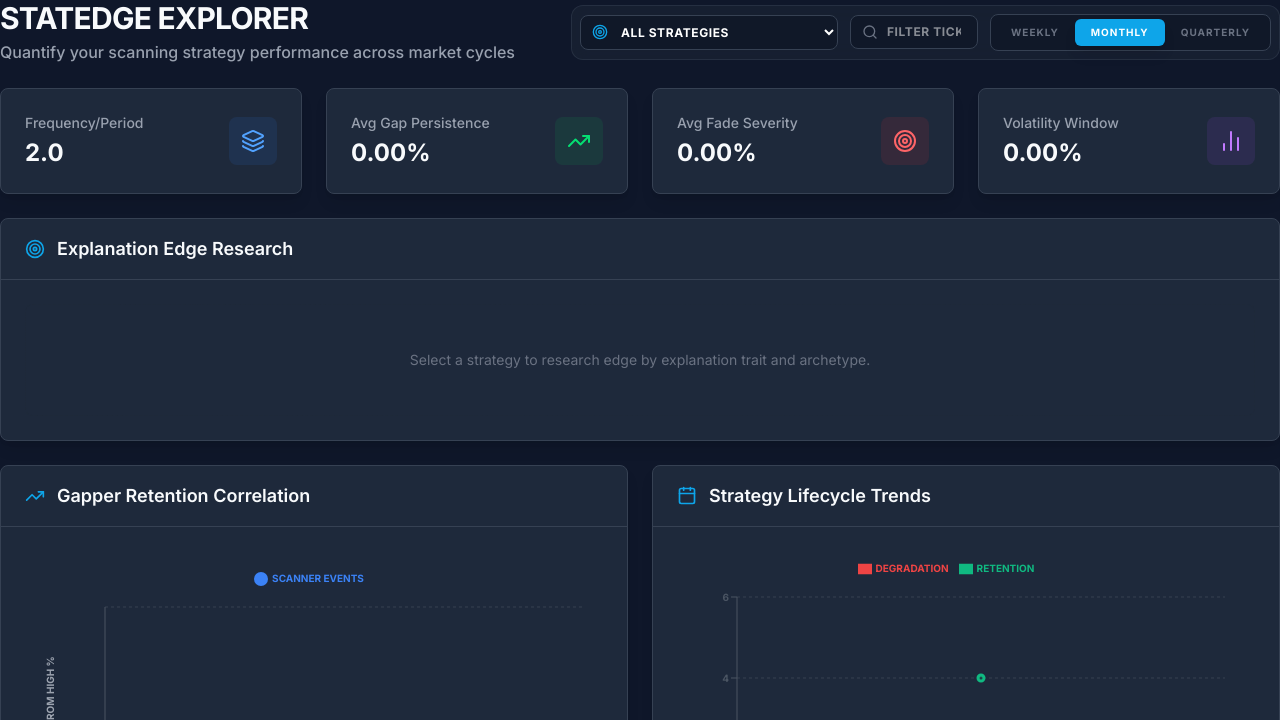
Test: EdgeExplorer explanation intelligence › surfaces warning-heavy analog groups
Select "Pre Market Volume Spike" in the dropdown named "Strategy filter" at [709, 32], box [580,14,838,50]
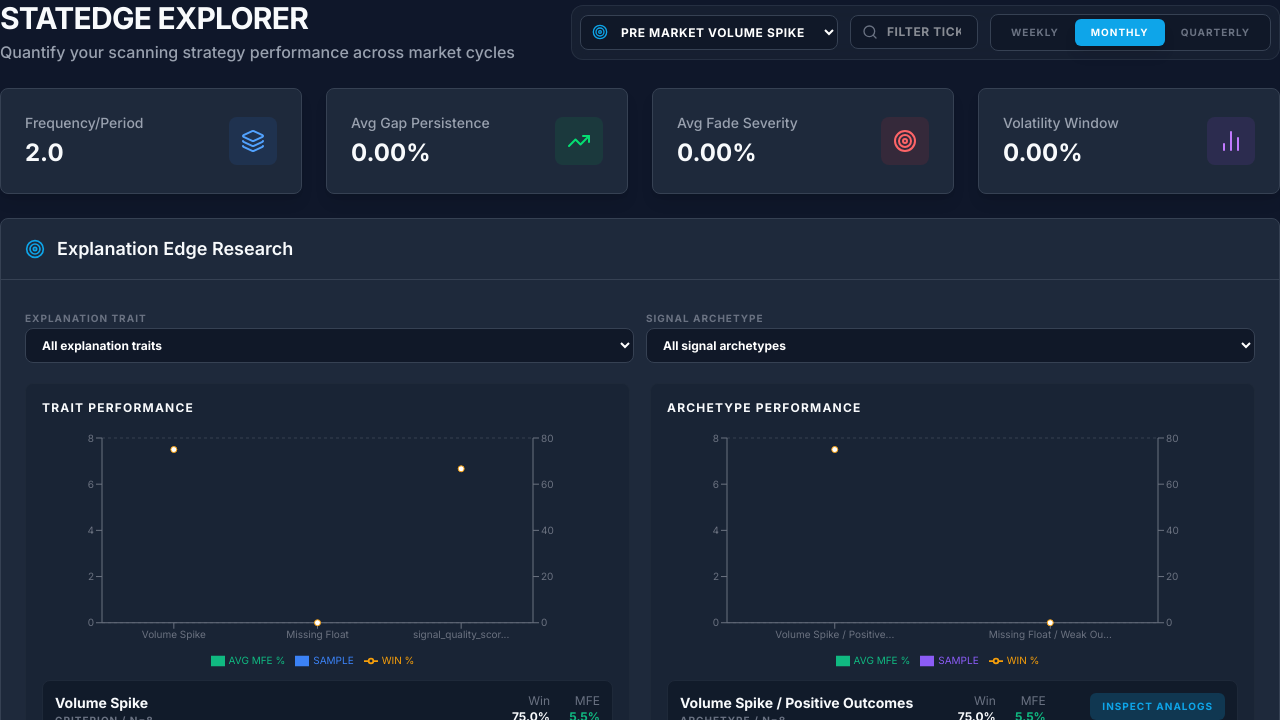
Click the button "Inspect analogs" at [1158, 706], box [1090,693,1225,719]
(page scrolled)
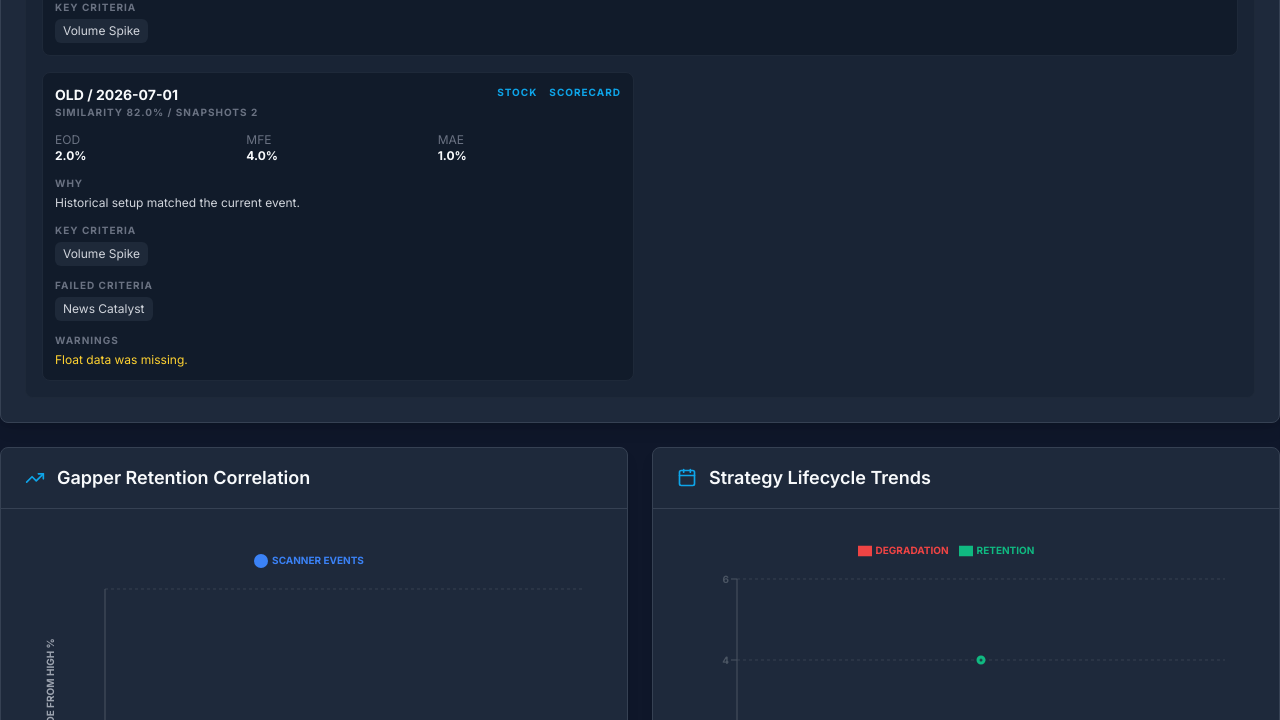
Check: the text "Float data was missing." is shown, box [55,352,188,367]
